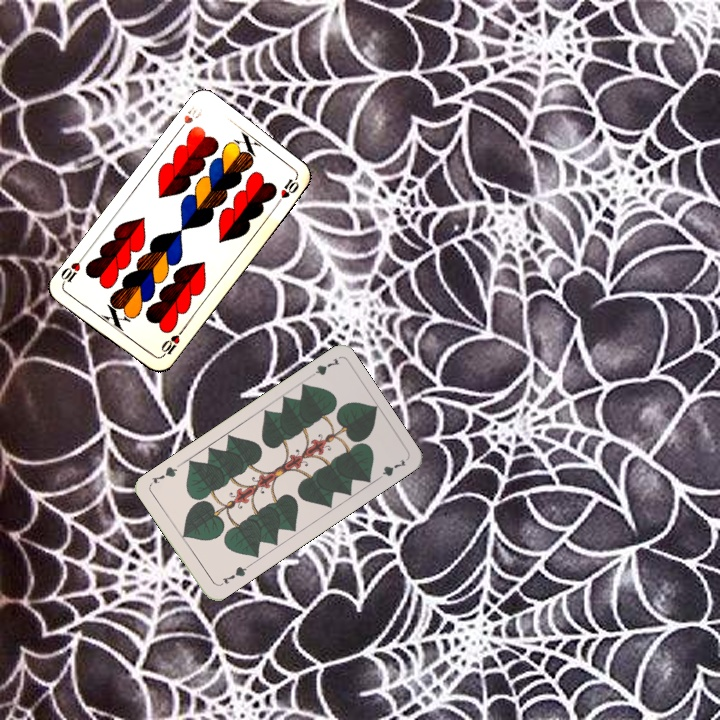G7: (303, 354, 342, 382), (218, 561, 251, 587)
H10: (173, 102, 205, 136), (157, 326, 186, 360)
